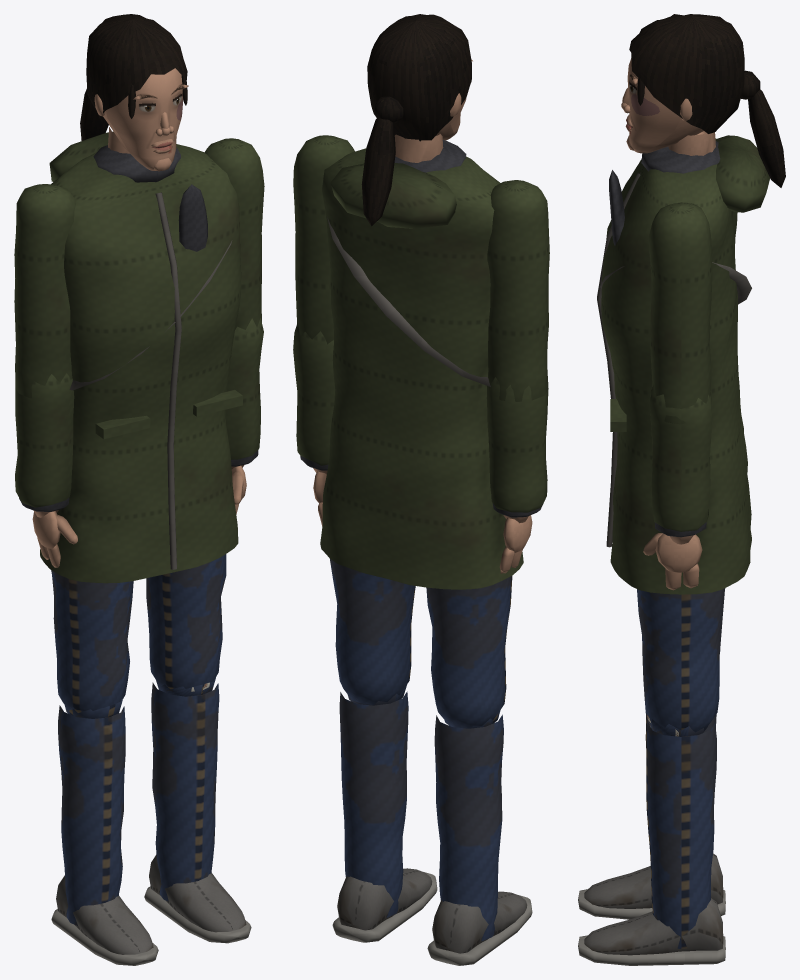
The model's file is char_lucia.glb.
3 renders of one model, left to right at view 1: azimuth 30°, elevation 25°; view 2: azimuth 150°, elevation 25°; view 3: azimuth 270°, elevation 25°, orthographic. The views are drawn at different scales.
Visible parts, largest first — view 1: Spine, Head, ShinL, ShinR, UpperArmR, ThighR, ThighL, ForearmR, UpperArmL, FootL, FootR, ForearmL (+1 smaller); view 2: Spine, Head, UpperArmR, ShinL, ShinR, ThighR, ThighL, ForearmR, UpperArmL, ForearmL, FootL, FootR (+1 smaller); view 3: Spine, Head, ShinL, UpperArmL, ThighL, ForearmL, FootL, FootR, HandL.
Boxes of the visible parts, x1,y1,x2,y2 form: Spine: [40, 131, 242, 583]; Head: [80, 14, 188, 171]; ShinL: [151, 677, 219, 901]; ShinR: [58, 698, 125, 925]; UpperArmR: [14, 184, 75, 398]; ThighR: [51, 570, 133, 712]; ThighL: [146, 554, 226, 689]; ForearmR: [15, 373, 74, 517]; UpperArmL: [204, 138, 264, 329]; FootL: [144, 855, 251, 943]; FootR: [51, 875, 158, 965]; ForearmL: [225, 318, 263, 468]; Spine: [320, 140, 523, 589]; Head: [361, 14, 472, 226]; UpperArmR: [487, 180, 549, 401]; ShinL: [339, 685, 408, 917]; ShinR: [434, 710, 503, 941]; ThighR: [426, 576, 512, 728]; ThighL: [329, 558, 415, 705]; ForearmR: [486, 377, 548, 523]; UpperArmL: [293, 135, 354, 344]; ForearmL: [293, 322, 335, 474]; FootL: [332, 868, 437, 942]; FootR: [427, 891, 532, 965]; Spine: [597, 135, 769, 594]; Head: [621, 14, 785, 187]; ShinL: [645, 712, 716, 948]; UpperArmL: [649, 202, 712, 424]; ThighL: [637, 588, 725, 732]; ForearmL: [649, 382, 712, 544]; FootL: [578, 898, 725, 965]; FootR: [578, 853, 725, 919]; HandL: [643, 533, 702, 590].
Size of the model in its own units: 0.4915 by 1.74 by 0.3578.
Materials: 10 (10 with a texture image).
